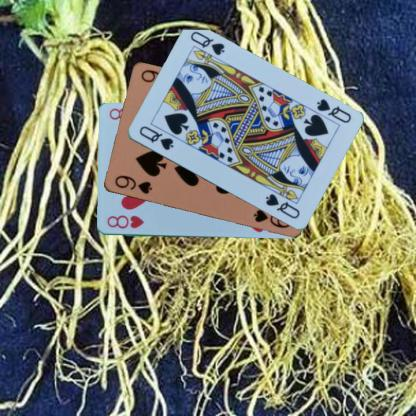8h: (105, 213, 145, 230)
9s: (112, 173, 153, 196)
Qs: (136, 122, 174, 152), (314, 96, 352, 125)
